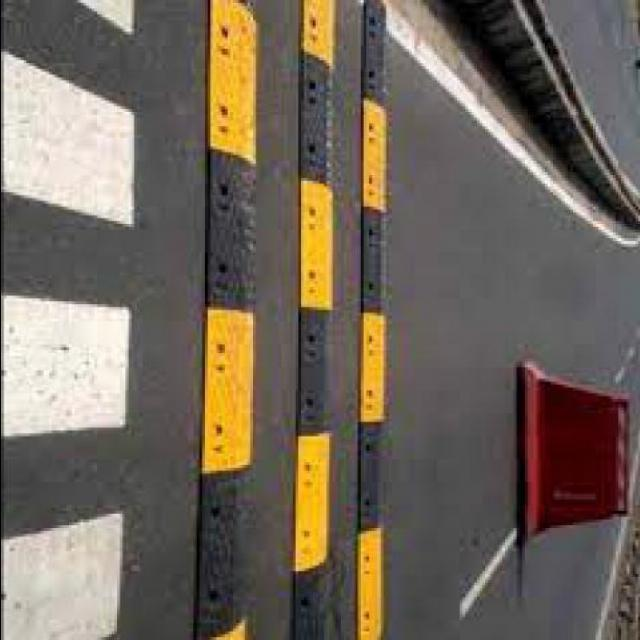Speed_Breaker: (181, 0, 399, 640), (193, 0, 258, 639), (292, 0, 333, 639), (358, 3, 389, 639)
